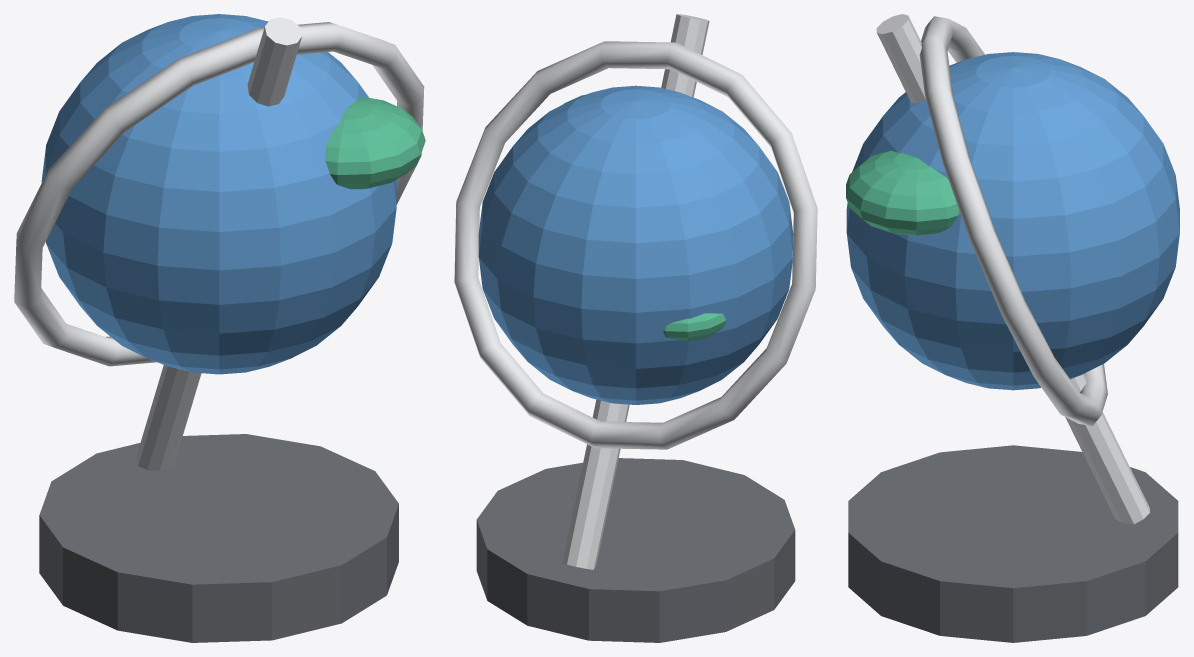
The model's file is solar-system-and-astronauts-earth-globe-stand-a9019924__39273.glb.
3 views of the same model, side by side, from view 1: azimuth 30°, elevation 25°; view 2: azimuth 150°, elevation 25°; view 3: azimuth 270°, elevation 25° (orthographic). The views are drawn at different scales.
Visible parts, largest first — view 1: earth-globe-stand; view 2: earth-globe-stand; view 3: earth-globe-stand.
Boxes of the visible parts, bbox=[...] form: earth-globe-stand: bbox=[14, 14, 425, 642]; earth-globe-stand: bbox=[454, 14, 817, 642]; earth-globe-stand: bbox=[846, 14, 1179, 642].
Size of the model in its own units: 0.364 by 0.5058 by 0.2764.
